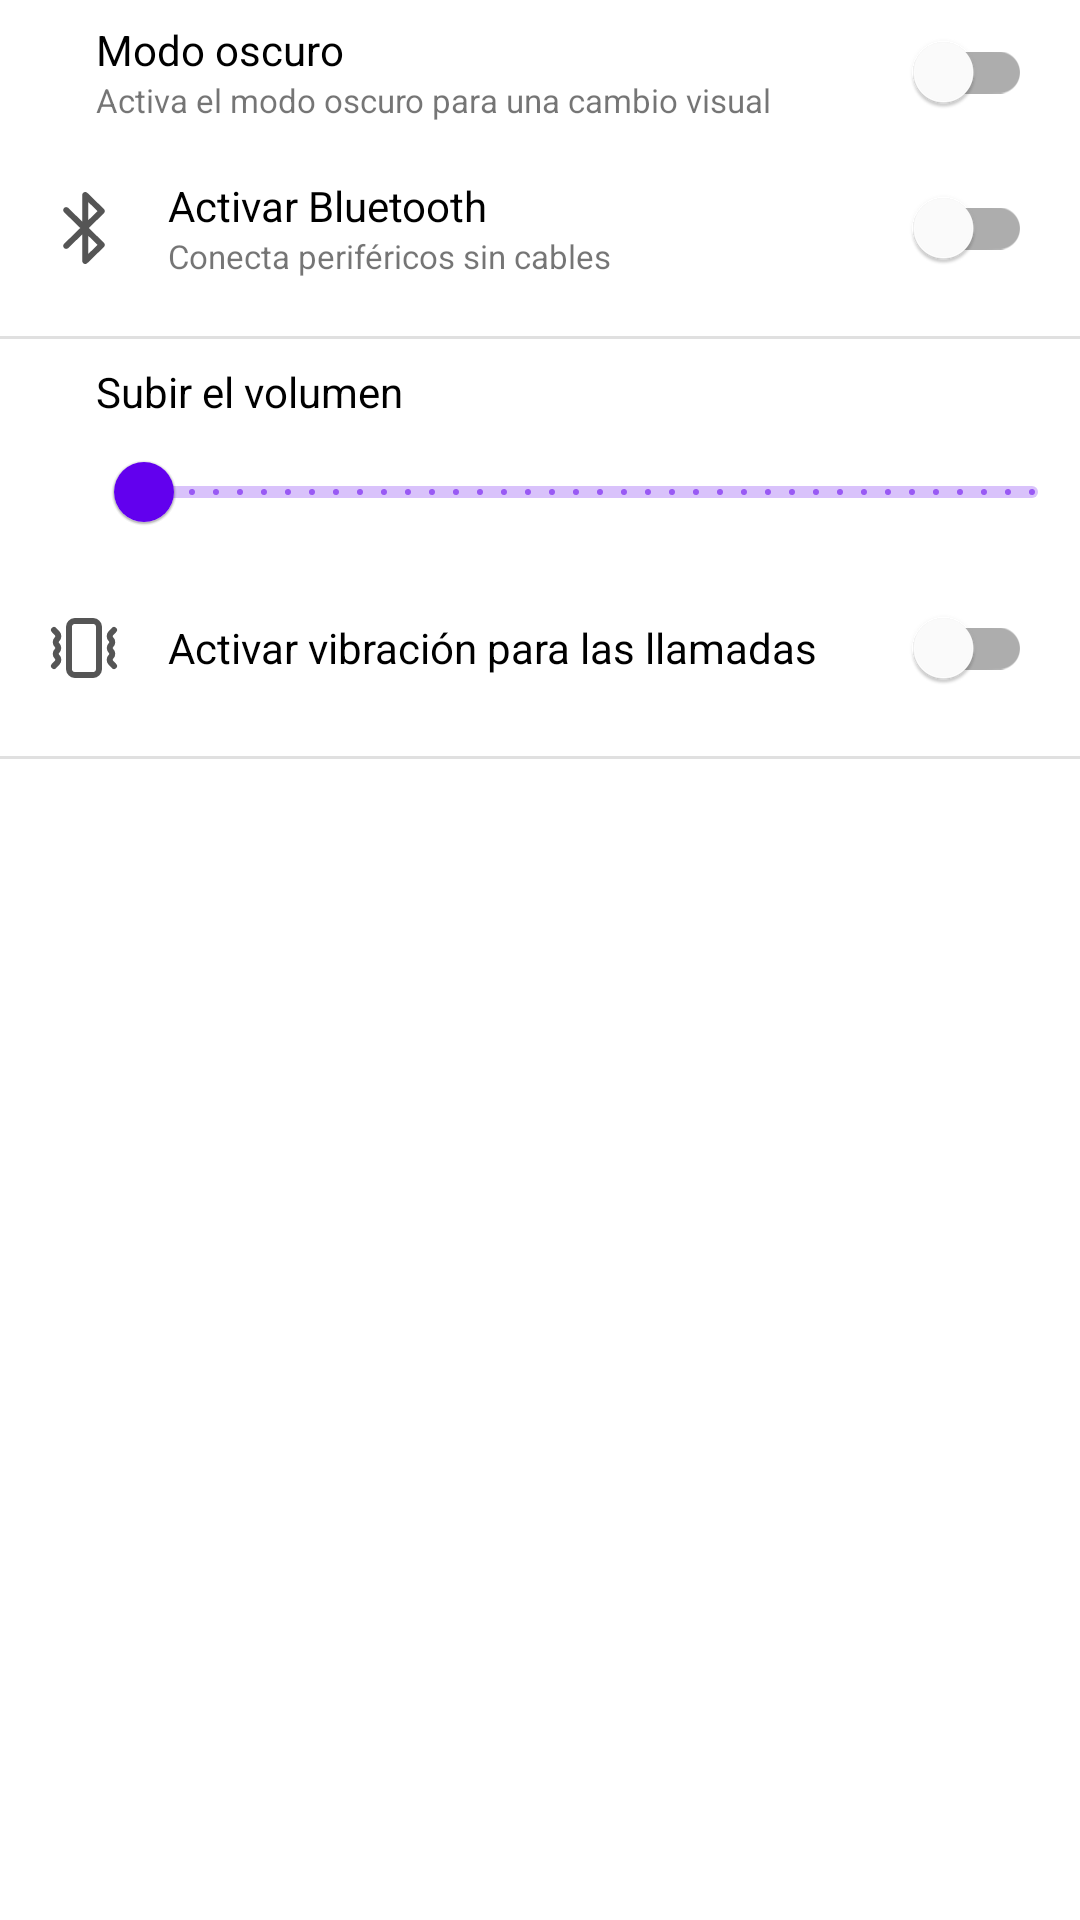

Screen size 1080x1920. Icon name, then its center in pixels as point (x, y):
vibration: point (84, 648)
